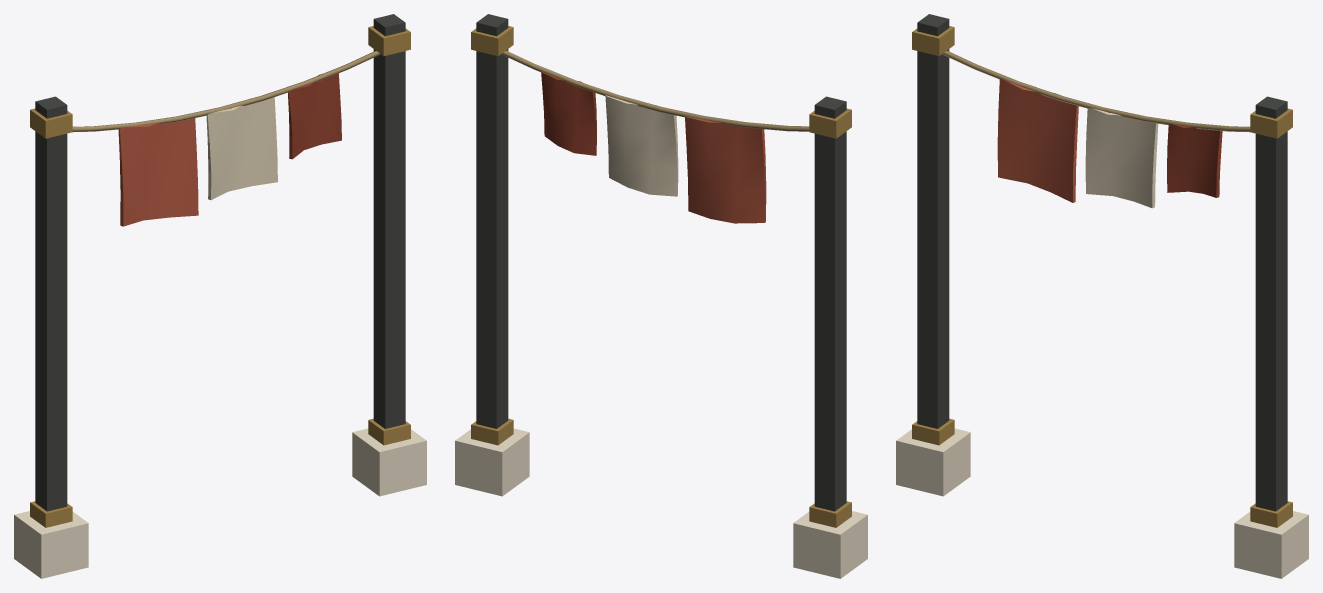
File: clothesline.glb
The picture shows the model from 3 angles, left to right: view 1: azimuth 30°, elevation 25°; view 2: azimuth 150°, elevation 25°; view 3: azimuth 330°, elevation 25°; orthographic projection.
Parts seen in each view (by area): view 1: clothesline; view 2: clothesline; view 3: clothesline.
Part boxes in pixels (x1,y1,x2,y2): clothesline: [14, 14, 426, 578]; clothesline: [455, 14, 867, 578]; clothesline: [896, 14, 1308, 578].
Bounding box in the file's own units: 2.28 × 2.6 × 0.28.
